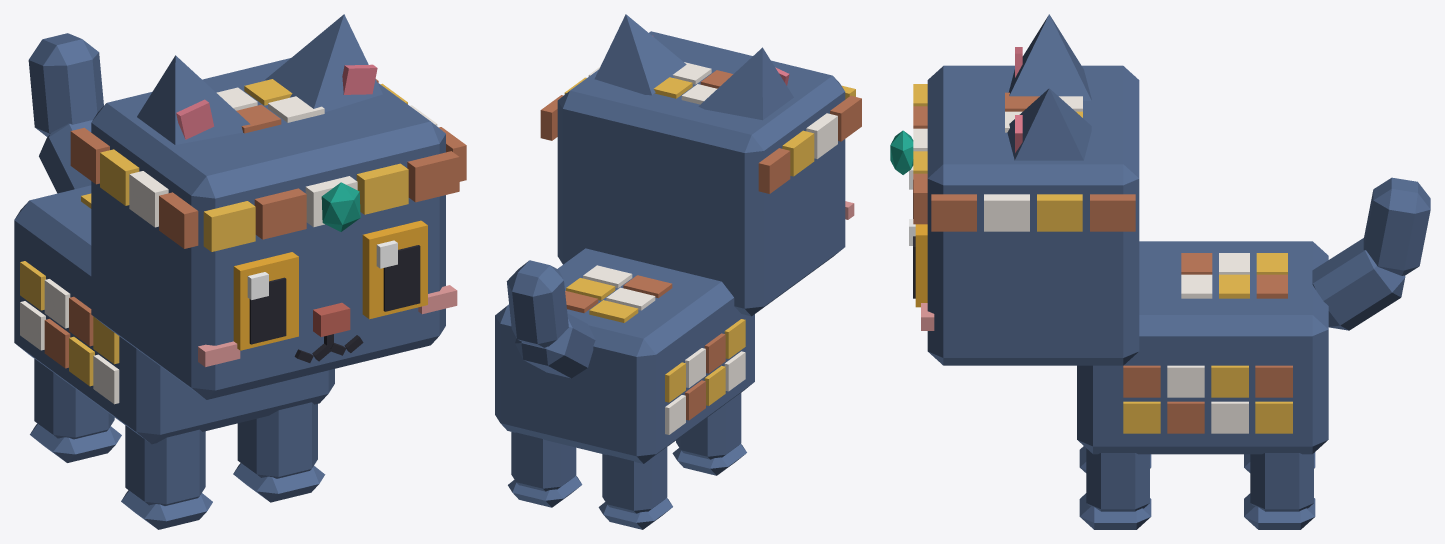
The model's file is CatCafe_Cat_Mosaic.fbx.
3 renders of one model, left to right at view 1: azimuth 30°, elevation 25°; view 2: azimuth 150°, elevation 25°; view 3: azimuth 270°, elevation 25°, orthographic. The views are drawn at different scales.
Parts seen in each view (by area): view 1: CatCafe_Cat_Mosaic_Head, CatCafe_Cat_Mosaic_Body, CatCafe_Cat_Mosaic_Prop, CatCafe_Cat_Mosaic_Tail, CatCafe_Cat_Mosaic_LegF2, CatCafe_Cat_Mosaic_LegF1, CatCafe_Cat_Mosaic_EarL, CatCafe_Cat_Mosaic_Eye1, CatCafe_Cat_Mosaic_Eye2, CatCafe_Cat_Mosaic_LegB2, CatCafe_Cat_Mosaic_EarR, CatCafe_Cat_Mosaic_Glow; view 2: CatCafe_Cat_Mosaic_Head, CatCafe_Cat_Mosaic_Body, CatCafe_Cat_Mosaic_Tail, CatCafe_Cat_Mosaic_Prop, CatCafe_Cat_Mosaic_LegB2, CatCafe_Cat_Mosaic_LegB1, CatCafe_Cat_Mosaic_EarL, CatCafe_Cat_Mosaic_EarR, CatCafe_Cat_Mosaic_LegF2; view 3: CatCafe_Cat_Mosaic_Head, CatCafe_Cat_Mosaic_Body, CatCafe_Cat_Mosaic_Tail, CatCafe_Cat_Mosaic_Prop, CatCafe_Cat_Mosaic_LegF1, CatCafe_Cat_Mosaic_LegB1, CatCafe_Cat_Mosaic_EarL, CatCafe_Cat_Mosaic_EarR, CatCafe_Cat_Mosaic_Eye1, CatCafe_Cat_Mosaic_Glow.
Boxes of the visible parts, x1=… form: CatCafe_Cat_Mosaic_Head: x1=91, y1=58, x2=457, y2=399; CatCafe_Cat_Mosaic_Body: x1=14, y1=185, x2=334, y2=444; CatCafe_Cat_Mosaic_Prop: x1=70, y1=79, x2=466, y2=251; CatCafe_Cat_Mosaic_Tail: x1=28, y1=33, x2=103, y2=193; CatCafe_Cat_Mosaic_LegF2: x1=121, y1=425, x2=212, y2=529; CatCafe_Cat_Mosaic_LegF1: x1=233, y1=402, x2=325, y2=502; CatCafe_Cat_Mosaic_EarL: x1=265, y1=14, x2=382, y2=112; CatCafe_Cat_Mosaic_Eye1: x1=362, y1=220, x2=427, y2=319; CatCafe_Cat_Mosaic_Eye2: x1=233, y1=252, x2=298, y2=350; CatCafe_Cat_Mosaic_LegB2: x1=30, y1=358, x2=121, y2=462; CatCafe_Cat_Mosaic_EarR: x1=137, y1=55, x2=250, y2=144; CatCafe_Cat_Mosaic_Glow: x1=321, y1=182, x2=360, y2=231; CatCafe_Cat_Mosaic_Head: x1=557, y1=31, x2=854, y2=316; CatCafe_Cat_Mosaic_Body: x1=495, y1=248, x2=754, y2=463; CatCafe_Cat_Mosaic_Tail: x1=506, y1=260, x2=595, y2=378; CatCafe_Cat_Mosaic_Prop: x1=540, y1=66, x2=861, y2=193; CatCafe_Cat_Mosaic_LegB2: x1=598, y1=447, x2=672, y2=529; CatCafe_Cat_Mosaic_LegB1: x1=508, y1=432, x2=582, y2=507; CatCafe_Cat_Mosaic_EarL: x1=594, y1=14, x2=686, y2=95; CatCafe_Cat_Mosaic_EarR: x1=698, y1=47, x2=793, y2=120; CatCafe_Cat_Mosaic_LegF2: x1=672, y1=393, x2=746, y2=475; CatCafe_Cat_Mosaic_Head: x1=921, y1=65, x2=1139, y2=365; CatCafe_Cat_Mosaic_Body: x1=1077, y1=241, x2=1328, y2=454; CatCafe_Cat_Mosaic_Tail: x1=1312, y1=177, x2=1430, y2=330; CatCafe_Cat_Mosaic_Prop: x1=913, y1=84, x2=1135, y2=231; CatCafe_Cat_Mosaic_LegF1: x1=1079, y1=448, x2=1151, y2=529; CatCafe_Cat_Mosaic_LegB1: x1=1244, y1=453, x2=1315, y2=529; CatCafe_Cat_Mosaic_EarL: x1=1007, y1=88, x2=1091, y2=160; CatCafe_Cat_Mosaic_EarR: x1=1008, y1=14, x2=1091, y2=100; CatCafe_Cat_Mosaic_Eye1: x1=909, y1=219, x2=927, y2=307; CatCafe_Cat_Mosaic_Glow: x1=890, y1=130, x2=913, y2=174.
Size of the model in its own units: 1.11 by 1.86 by 2.04.
Materials: 1 (1 with a texture image).
